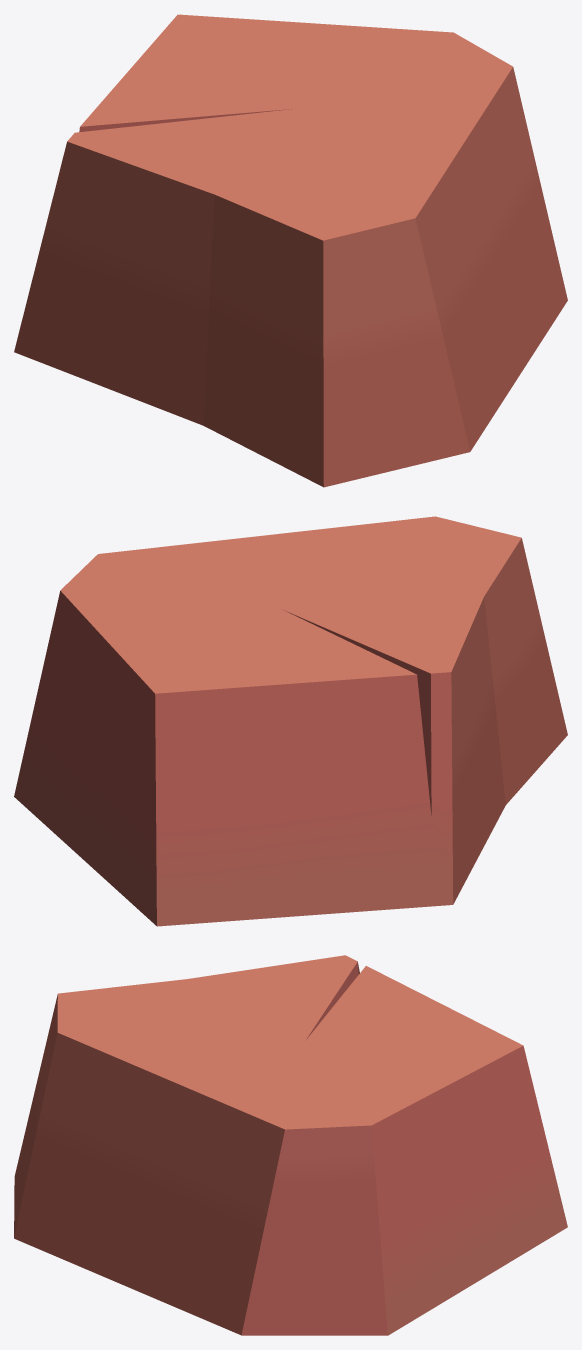
Rendered from RockDebris3.fbx.
3 renders of one model, top to bottom at view 1: azimuth 30°, elevation 25°; view 2: azimuth 150°, elevation 25°; view 3: azimuth 270°, elevation 25°, orthographic. The views are drawn at different scales.
Parts seen in each view (by area): view 1: RockDebris3; view 2: RockDebris3; view 3: RockDebris3.
Boxes of the visible parts, x1,y1,x2,y2 form: RockDebris3: [14, 14, 567, 487]; RockDebris3: [14, 516, 567, 926]; RockDebris3: [14, 955, 567, 1335].
Bounding box in the file's own units: 3.31 × 1.5 × 3.9.
